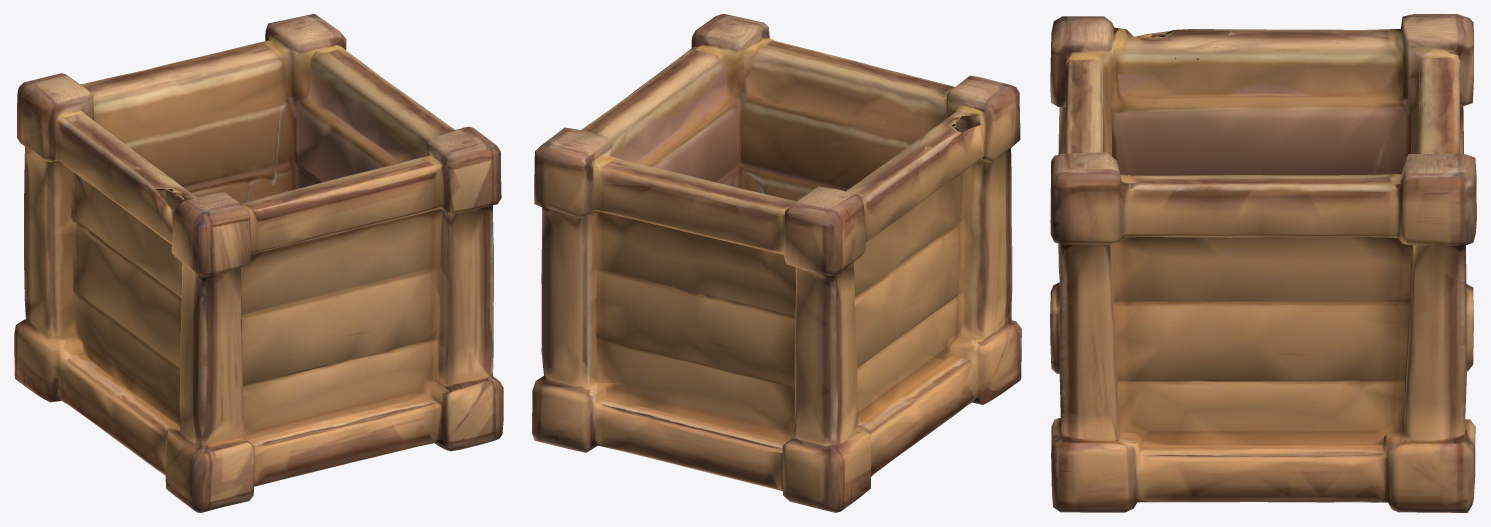
Rendered from Low_poly_wooden_crate_1028223015_texture.glb.
3 renders of one model, left to right at view 1: azimuth 30°, elevation 25°; view 2: azimuth 150°, elevation 25°; view 3: azimuth 270°, elevation 25°, orthographic. The views are drawn at different scales.
Parts seen in each view (by area): view 1: Mesh1.0; view 2: Mesh1.0; view 3: Mesh1.0.
Boxes of the visible parts, box(x1,y1,x2,y2) form: Mesh1.0: box(14, 14, 503, 512); Mesh1.0: box(532, 14, 1021, 512); Mesh1.0: box(1050, 14, 1476, 512).
Bounding box in the file's own units: 1.43 × 1.33 × 1.52.
Materials: 1 (1 with a texture image).
